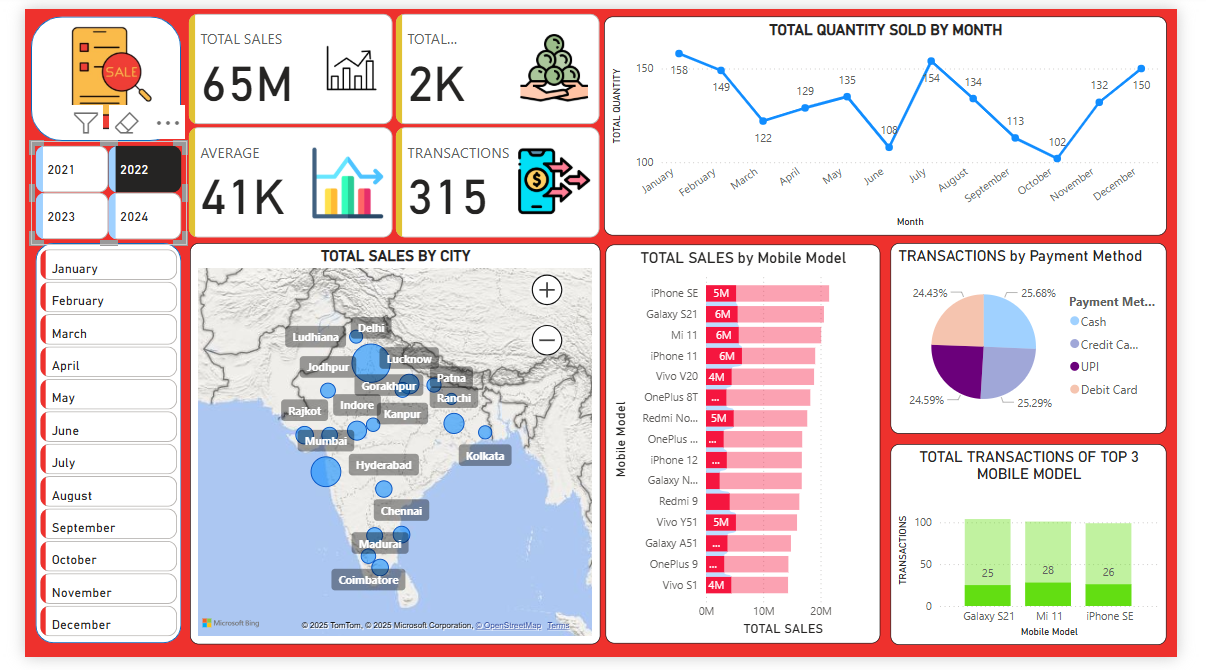

The page's visual inventory and layout, read from the dashboard file:
{"tool":"powerbi","page":{"name":"Page 1","canvas":[1280,720],"ordinal":0},"visuals":[{"type":"shape","box":[12.1,260.3,162.1,444.8],"z":0},{"type":"advancedSlicerVisual","fields":{"Values":["Sales data.Date.Variation.Date Hierarchy.Month"]},"box":[12.1,262.1,162.1,443.1],"z":1000},{"type":"cardVisual","fields":{"Data":["Sales data.TOTAL SALES","Sales data.TOTAL QUANTITY","Sales data.AVERAGE","Sales data.TRANSACTIONS"]},"box":[176,0,468,260],"z":2000},{"type":"map","title":"TOTAL SALES BY CITY      ","fields":{"Category":["Sales data.City"],"Size":["Sales data.TOTAL SALES"]},"box":[184,260,456,446],"z":3000},{"type":"lineChart","title":"TOTAL QUANTITY SOLD BY MONTH","fields":{"Y":["Sales data.TOTAL QUANTITY"],"Category":["Sales data.Date.Variation.Date Hierarchy.Month","Sales data.Date.Variation.Date Hierarchy.Day"]},"box":[643.3,8.3,625,243.3],"z":4000},{"type":"clusteredColumnChart","title":"TOTAL TRANSACTIONS OF TOP 3 MOBILE MODEL","fields":{"Category":["Sales data.Mobile Model"],"Y":["Sales data.TRANSACTIONS"]},"box":[961.7,483.3,306.7,223.3],"z":5000},{"type":"pieChart","fields":{"Category":["Sales data.Payment Method"],"Y":["Sales data.TRANSACTIONS"]},"box":[961.7,260,306.7,211.7],"z":6000},{"type":"barChart","fields":{"Category":["Sales data.Mobile Model"],"Y":["Sales data.TOTAL SALES"]},"box":[645,261.7,305,443.3],"z":7000},{"type":"advancedSlicerVisual","fields":{"Values":["Sales data.Date.Variation.Date Hierarchy.Year"]},"box":[6.7,146.7,173.3,115],"z":8000},{"type":"shape","box":[6.7,8.3,166.7,138.3],"z":9000},{"type":"image","box":[15,8.3,158.3,135],"z":9001}]}

Visuals, with their boxes in screenshot pixels (x1, y1, x2, y2), scaled from the page's 1280x720 canvas onto the 1206x670 screenshot:
shape: (11, 242, 164, 656)
advancedSlicerVisual - Sales data.Date.Variation.Date Hierarchy.Month: (11, 244, 164, 656)
cardVisual - Sales data.TOTAL SALES x Sales data.TOTAL QUANTITY: (166, 0, 607, 242)
"TOTAL SALES BY CITY      " map: (173, 242, 603, 657)
"TOTAL QUANTITY SOLD BY MONTH" lineChart: (606, 8, 1195, 234)
"TOTAL TRANSACTIONS OF TOP 3 MOBILE MODEL" clusteredColumnChart: (906, 450, 1195, 658)
pieChart - Sales data.Payment Method x Sales data.TRANSACTIONS: (906, 242, 1195, 439)
barChart - Sales data.Mobile Model x Sales data.TOTAL SALES: (608, 244, 895, 656)
advancedSlicerVisual - Sales data.Date.Variation.Date Hierarchy.Year: (6, 137, 170, 244)
shape: (6, 8, 163, 136)
image: (14, 8, 163, 133)
